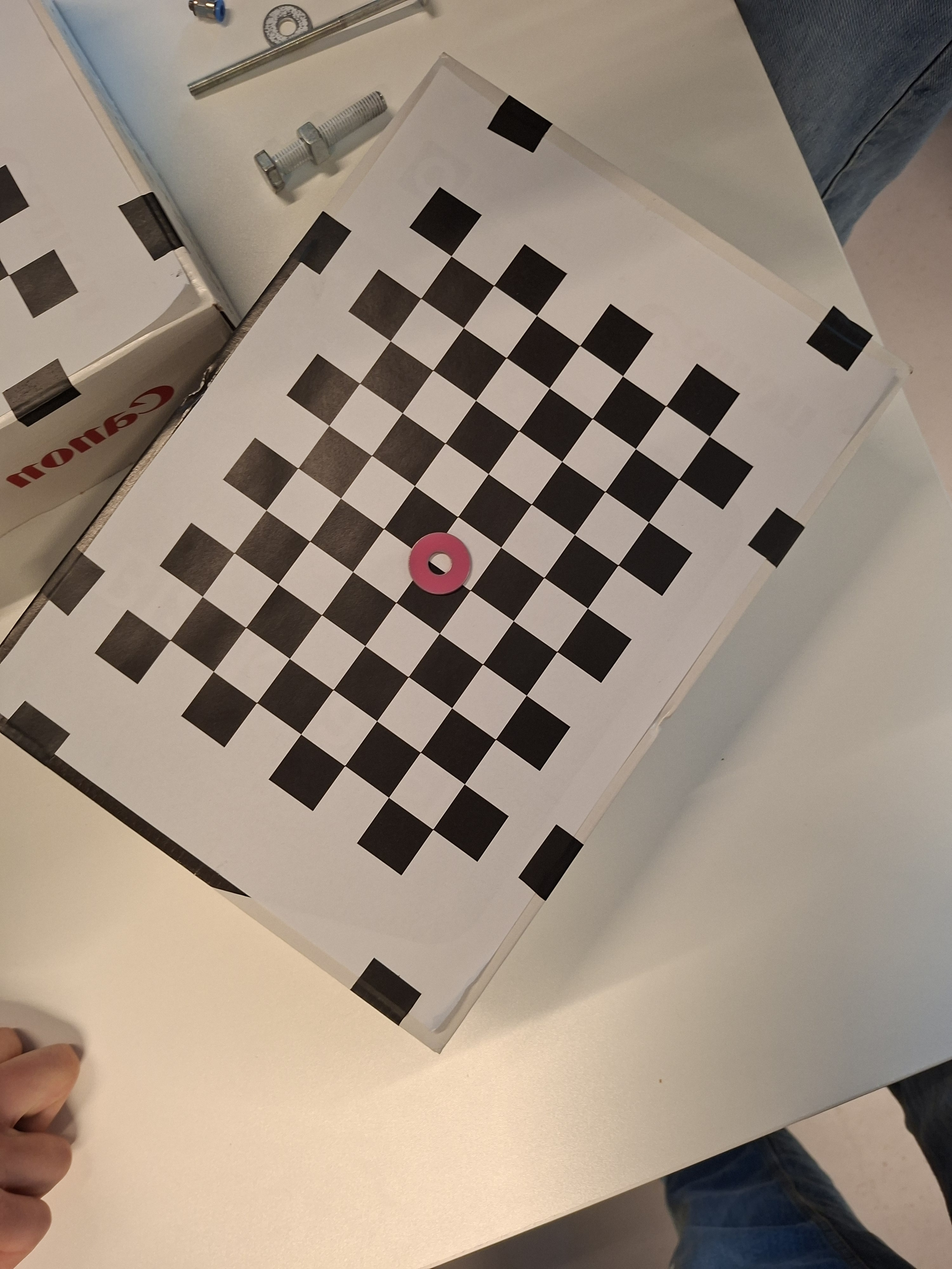washer: (402, 528, 475, 598)
